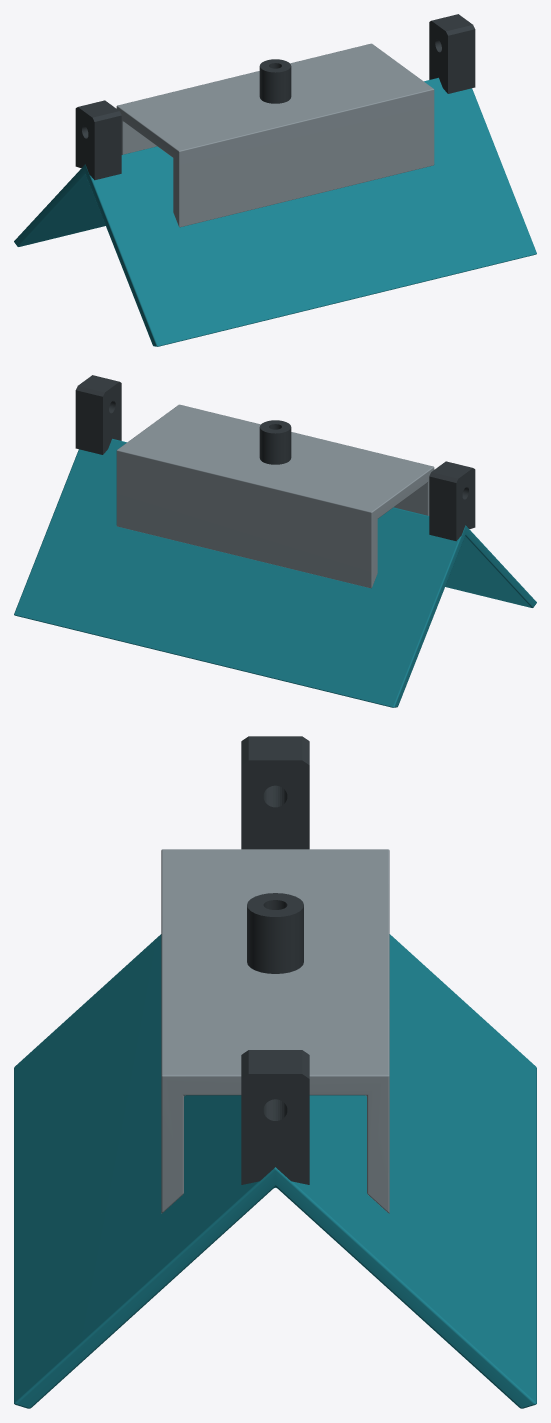
File: VLAB_cart.fbx
The picture shows the model from 3 angles, top to bottom: view 1: azimuth 30°, elevation 25°; view 2: azimuth 150°, elevation 25°; view 3: azimuth 270°, elevation 25°; orthographic projection. The views are drawn at different scales.
Parts seen in each view (by area): view 1: VLAB_cart_Body_VIS, VLAB_cart_MassMount_VIS, VLAB_cart_BumperMount_VIS, VLAB_cart_FlagMount_VIS; view 2: VLAB_cart_Body_VIS, VLAB_cart_MassMount_VIS, VLAB_cart_BumperMount_VIS, VLAB_cart_FlagMount_VIS; view 3: VLAB_cart_Body_VIS, VLAB_cart_MassMount_VIS, VLAB_cart_BumperMount_VIS, VLAB_cart_FlagMount_VIS.
Part boxes in pixels (bbox=[...]): VLAB_cart_Body_VIS: bbox=[14, 77, 536, 346]; VLAB_cart_MassMount_VIS: bbox=[116, 43, 434, 227]; VLAB_cart_BumperMount_VIS: bbox=[75, 14, 475, 180]; VLAB_cart_FlagMount_VIS: bbox=[259, 59, 291, 103]; VLAB_cart_Body_VIS: bbox=[14, 438, 536, 707]; VLAB_cart_MassMount_VIS: bbox=[116, 404, 434, 588]; VLAB_cart_BumperMount_VIS: bbox=[75, 375, 475, 541]; VLAB_cart_FlagMount_VIS: bbox=[259, 420, 291, 464]; VLAB_cart_Body_VIS: bbox=[14, 934, 536, 1408]; VLAB_cart_MassMount_VIS: bbox=[161, 849, 389, 1213]; VLAB_cart_BumperMount_VIS: bbox=[241, 736, 309, 1184]; VLAB_cart_FlagMount_VIS: bbox=[247, 893, 303, 973].
Bounding box in the file's own units: 0.14 × 0.0649 × 0.0916.
